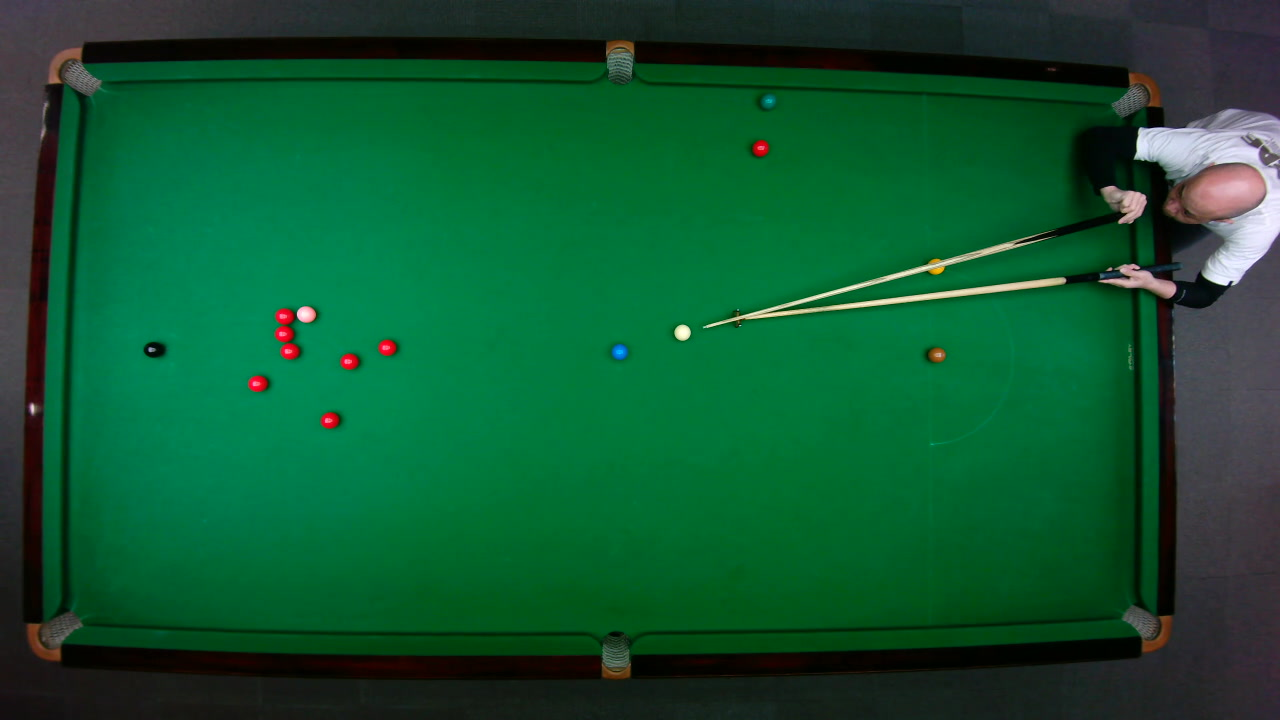bag: (24, 609, 83, 661), (45, 46, 102, 96), (1119, 603, 1172, 652), (1109, 71, 1161, 118), (600, 629, 630, 680), (605, 38, 633, 85)
black: (142, 340, 163, 357)
blue: (610, 342, 627, 360)
brown: (926, 346, 946, 362)
cue: (699, 206, 1124, 333)
green: (758, 92, 776, 110)
pink: (294, 304, 316, 323)
red: (318, 410, 340, 429), (246, 373, 268, 392), (272, 306, 294, 324), (750, 138, 770, 157), (278, 342, 300, 359), (272, 325, 294, 342), (377, 338, 397, 356), (339, 352, 359, 369)
white: (672, 323, 691, 341)
yellow: (925, 257, 945, 275)
zone: (927, 278, 1014, 445)
